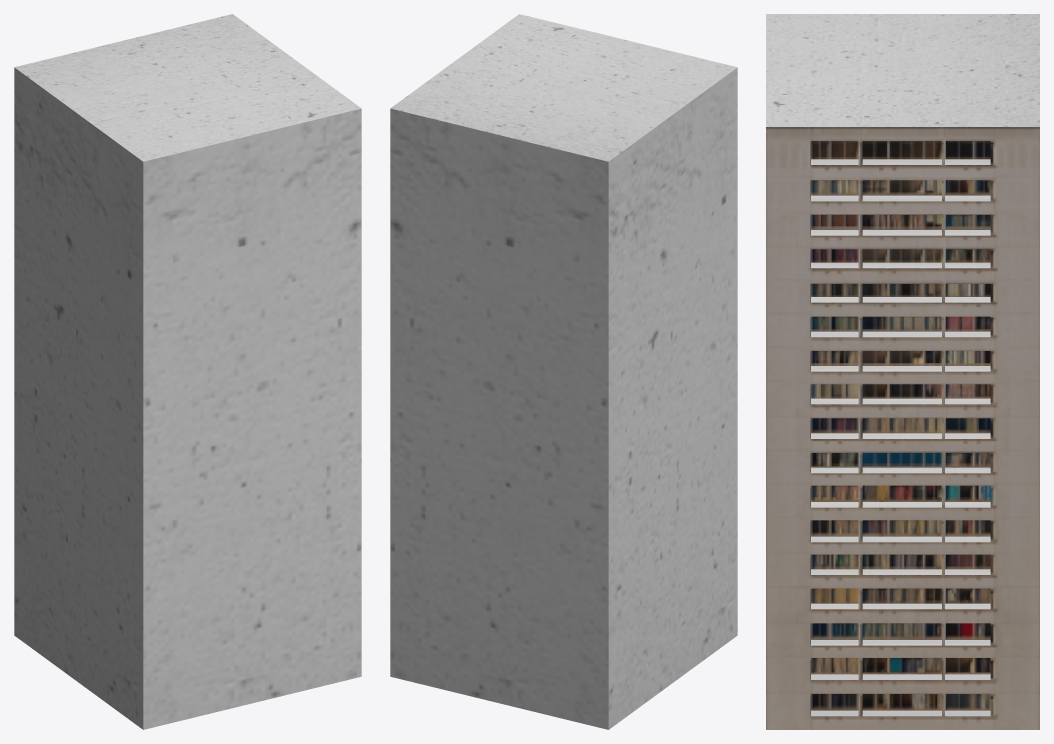
Rendered from Buildings.fbx.
3 views of the same model, side by side, from view 1: azimuth 30°, elevation 25°; view 2: azimuth 150°, elevation 25°; view 3: azimuth 270°, elevation 25° (orthographic). The views are drawn at different scales.
Parts seen in each view (by area): view 1: Building7; view 2: Building7; view 3: Building7.
Boxes of the visible parts, x1,y1,x2,y2 form: Building7: [14, 14, 361, 729]; Building7: [390, 14, 737, 729]; Building7: [766, 14, 1039, 729].
Bounding box in the file's own units: 3400 × 8456 × 3481.
